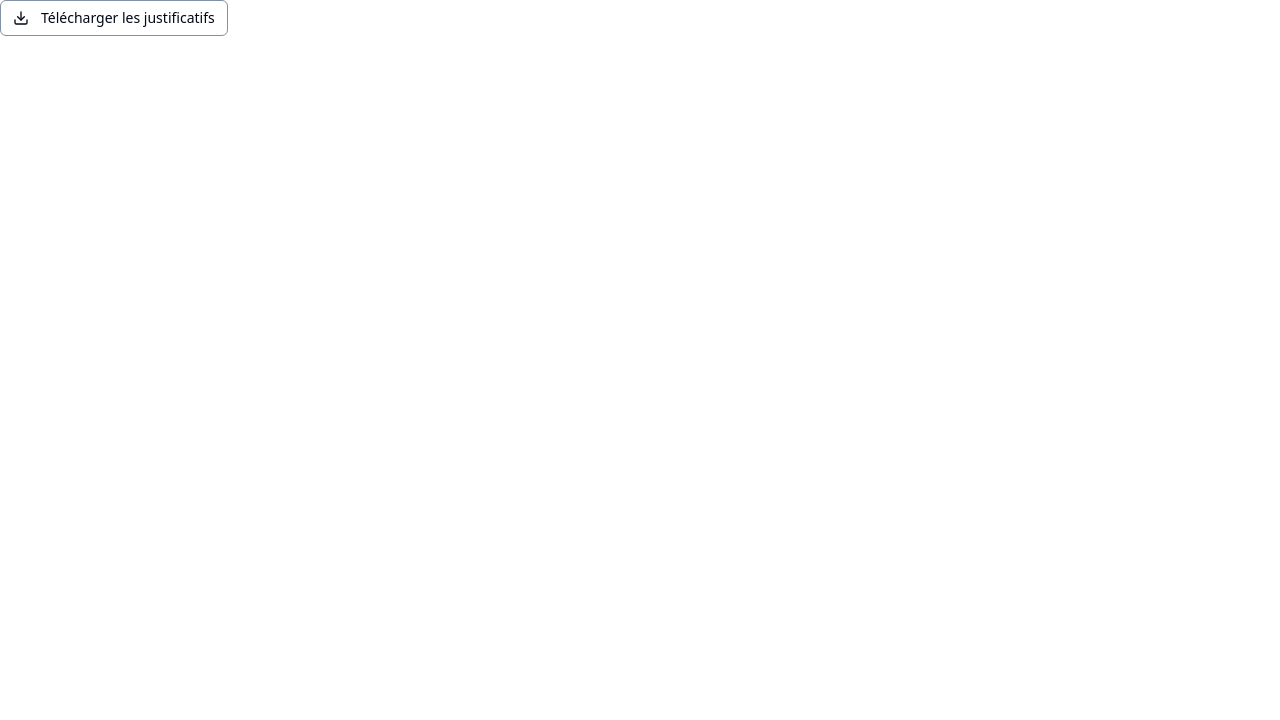
Scenario: EvidenceDownload › counts the new and the already downloaded pictures, and downloads only the new ones
The width and height of the screenshot is (1280, 720).
Click the button "Télécharger les justificatifs".
click(114, 18)  # box [0, 0, 228, 36]
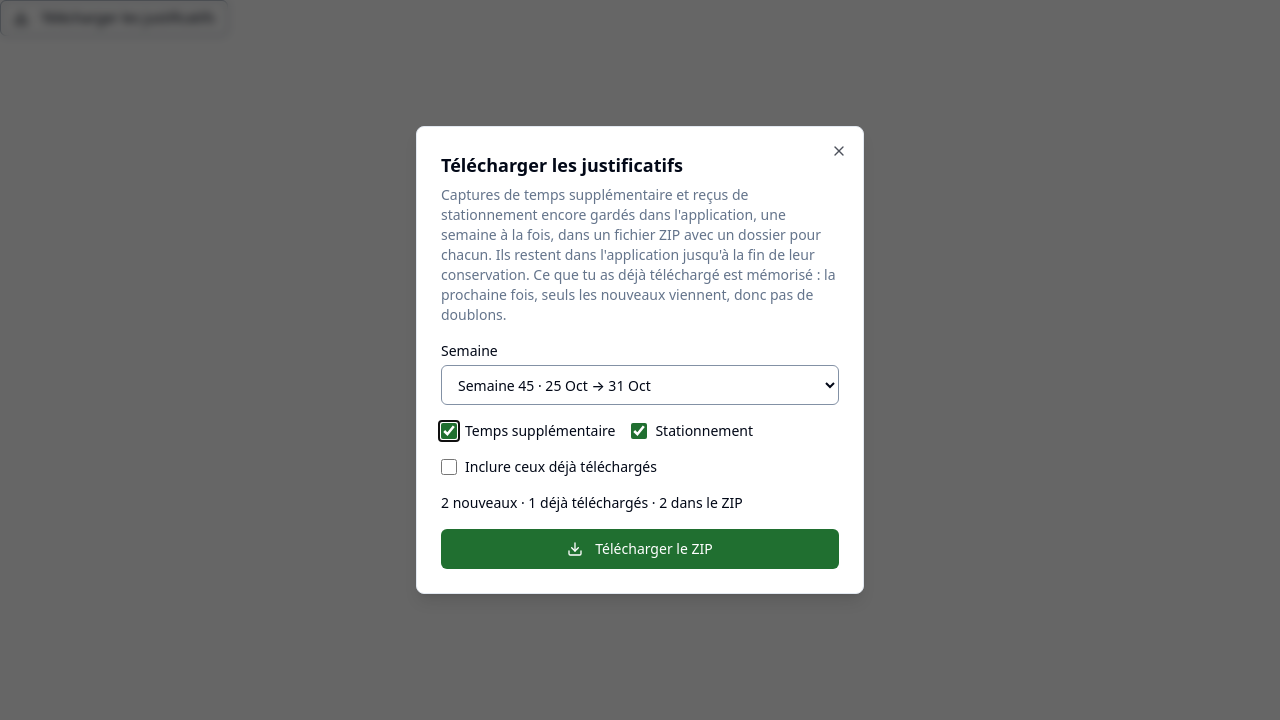
Expected: the text "2 nouveaux · 1 déjà téléchargés · 2 dans le ZIP" is shown, [441, 493, 743, 512]
Click the button "Télécharger le ZIP".
click(640, 549)  # box [441, 529, 839, 569]
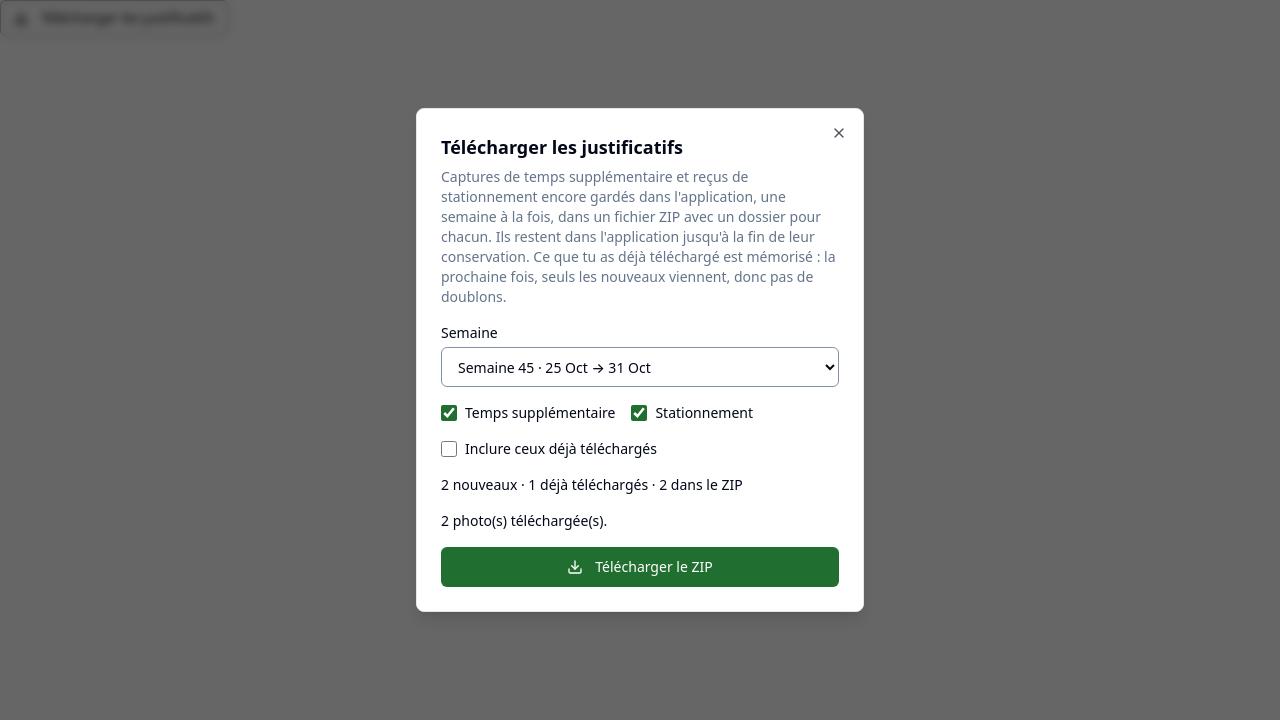
Expected: the text "2 photo(s) téléchargée(s)." is shown, [441, 511, 607, 530]
